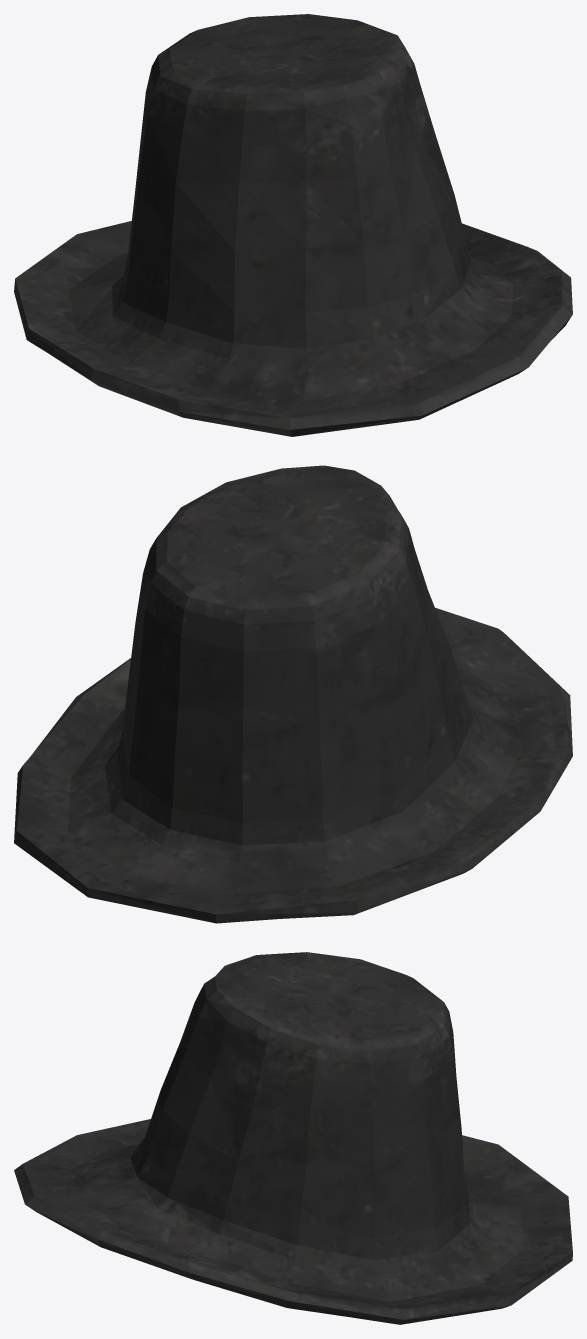
Rendered from KOZA_KAPELUSZ_05.glb.
3 renders of one model, top to bottom at view 1: azimuth 30°, elevation 25°; view 2: azimuth 150°, elevation 25°; view 3: azimuth 270°, elevation 25°, orthographic. The views are drawn at different scales.
Visible parts, largest first — view 1: KOZA_KAPELUSZ_05; view 2: KOZA_KAPELUSZ_05; view 3: KOZA_KAPELUSZ_05.
Boxes of the visible parts, left/top/right/bottom form: KOZA_KAPELUSZ_05: left=14, top=14, right=572, bottom=436; KOZA_KAPELUSZ_05: left=14, top=465, right=572, bottom=923; KOZA_KAPELUSZ_05: left=14, top=952, right=572, bottom=1324.
Size of the model in its own units: 0.3304 by 0.2121 by 0.4007.
1 material, 1 textured.
